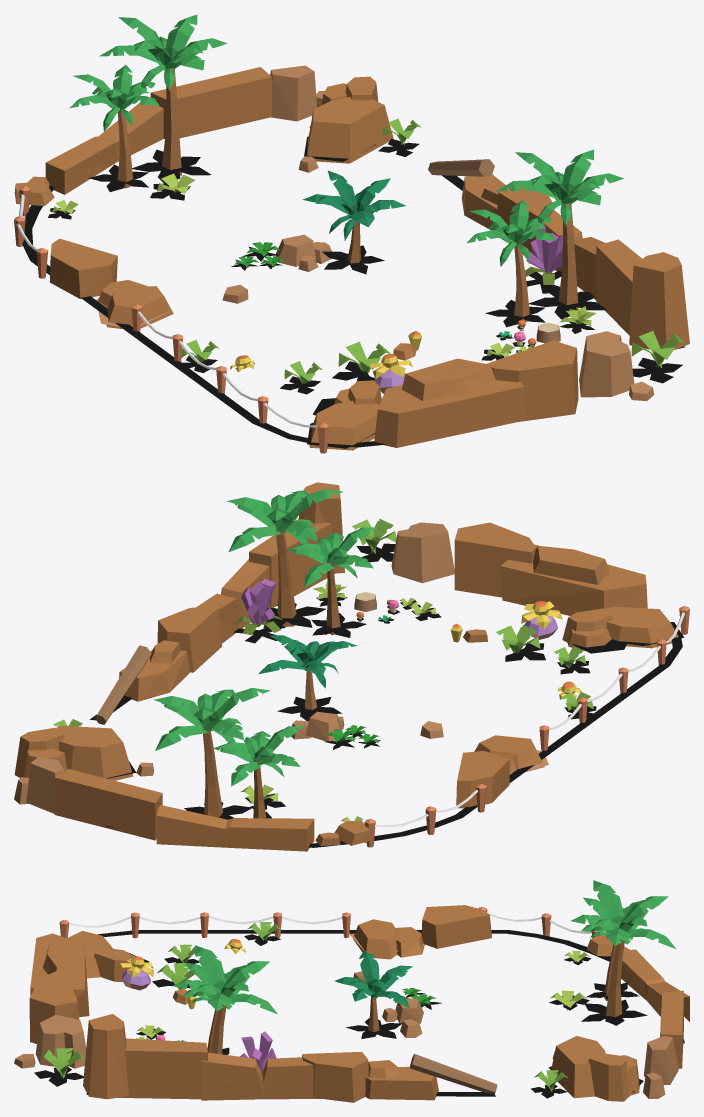
The model's file is xweilan_1010_0.FBX.
3 views of the same model, one above another, from view 1: azimuth 30°, elevation 25°; view 2: azimuth 150°, elevation 25°; view 3: azimuth 270°, elevation 25° (orthographic). The views are drawn at different scales.
Visible parts, largest first — view 1: xweilan_1010_0; view 2: xweilan_1010_0; view 3: xweilan_1010_0.
Part boxes in pixels (x1,y1,x2,y2): xweilan_1010_0: [14, 14, 689, 453]; xweilan_1010_0: [14, 482, 689, 851]; xweilan_1010_0: [14, 880, 689, 1102].
Size of the model in its own units: 4494 by 1484 by 7288.
